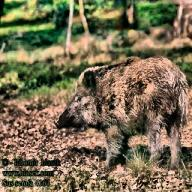boar: (54, 54, 190, 171)
